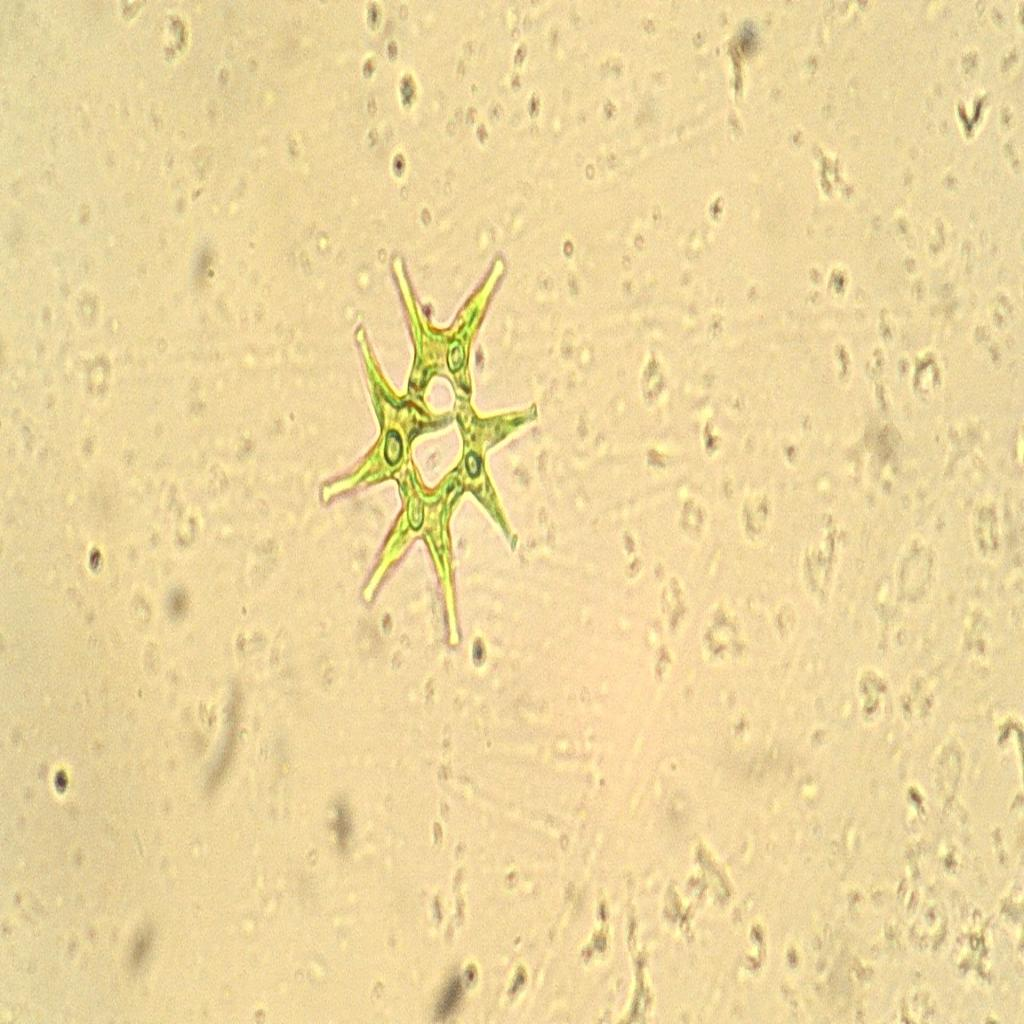Pediastrum_CF: (312, 216, 542, 674)
